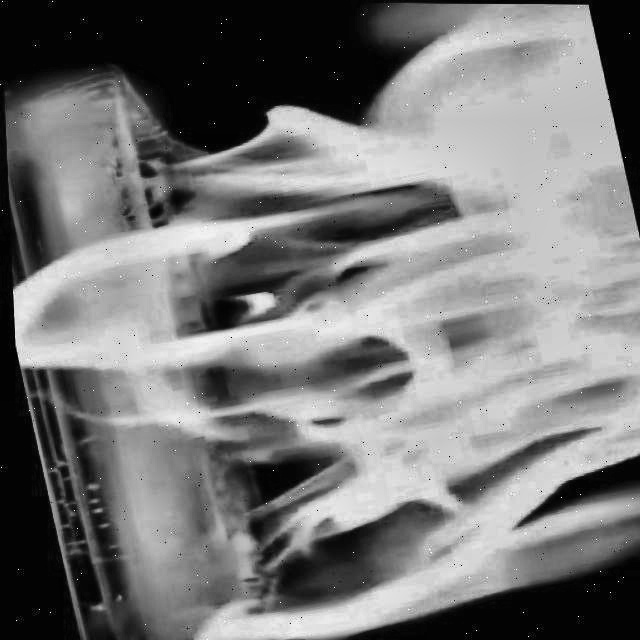Fire: (0, 8, 640, 640)
